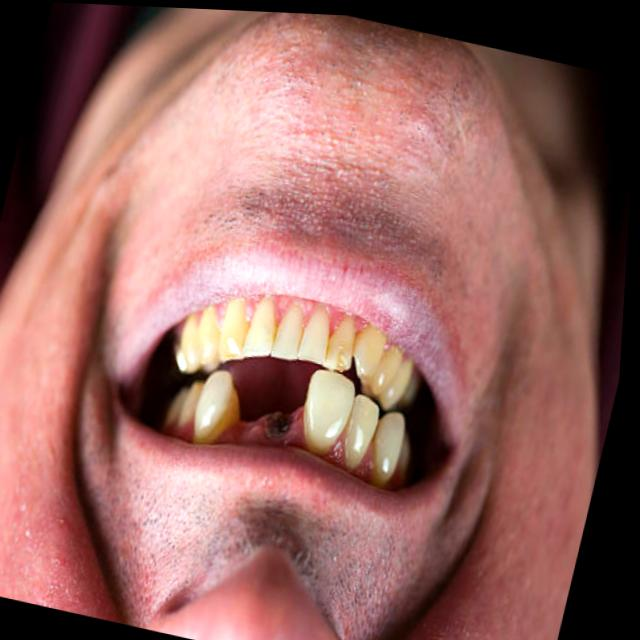cariess: (270, 413, 288, 436)
hypodontia: (160, 359, 378, 479)
